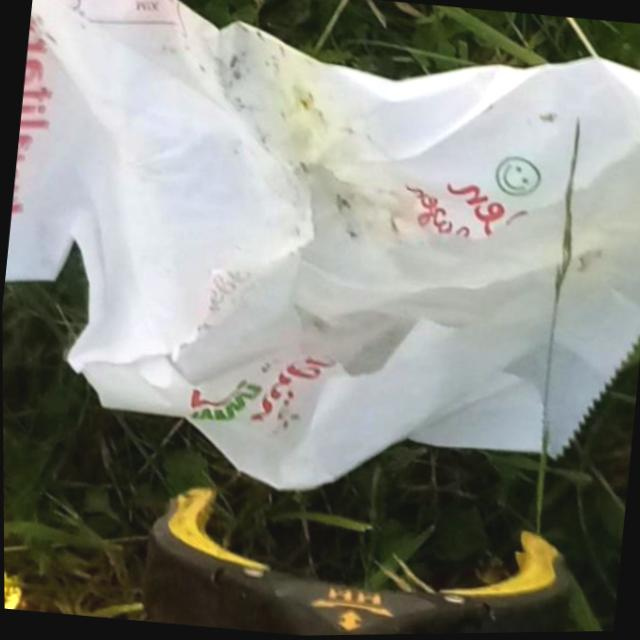Paper: (0, 0, 640, 533)
